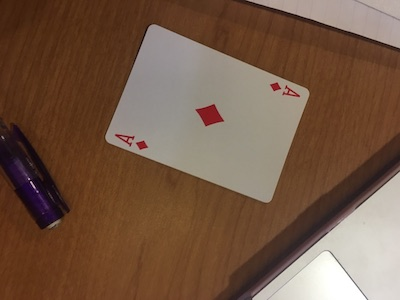AceOfDiamonds: (104, 21, 314, 207)
